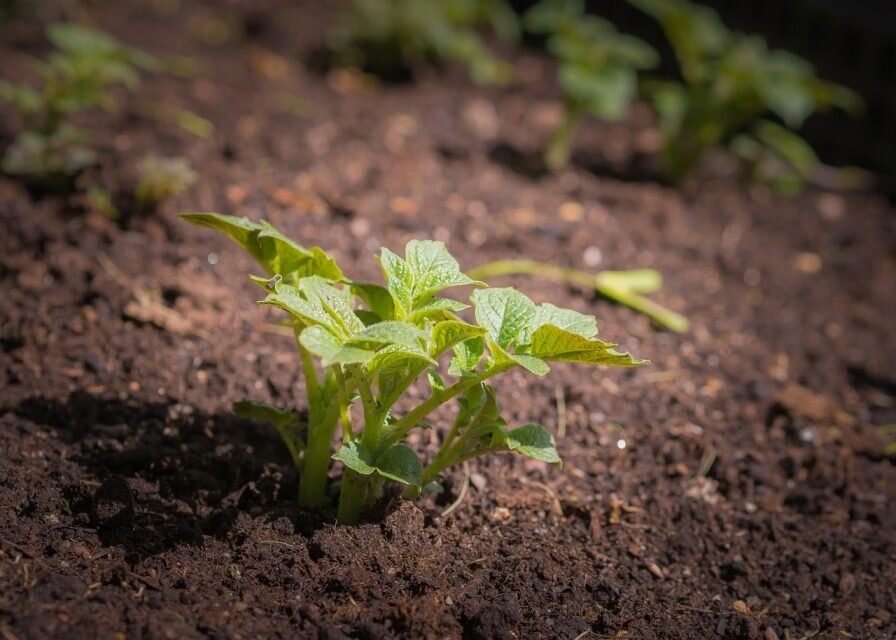potato_plant: (178, 207, 656, 517)
